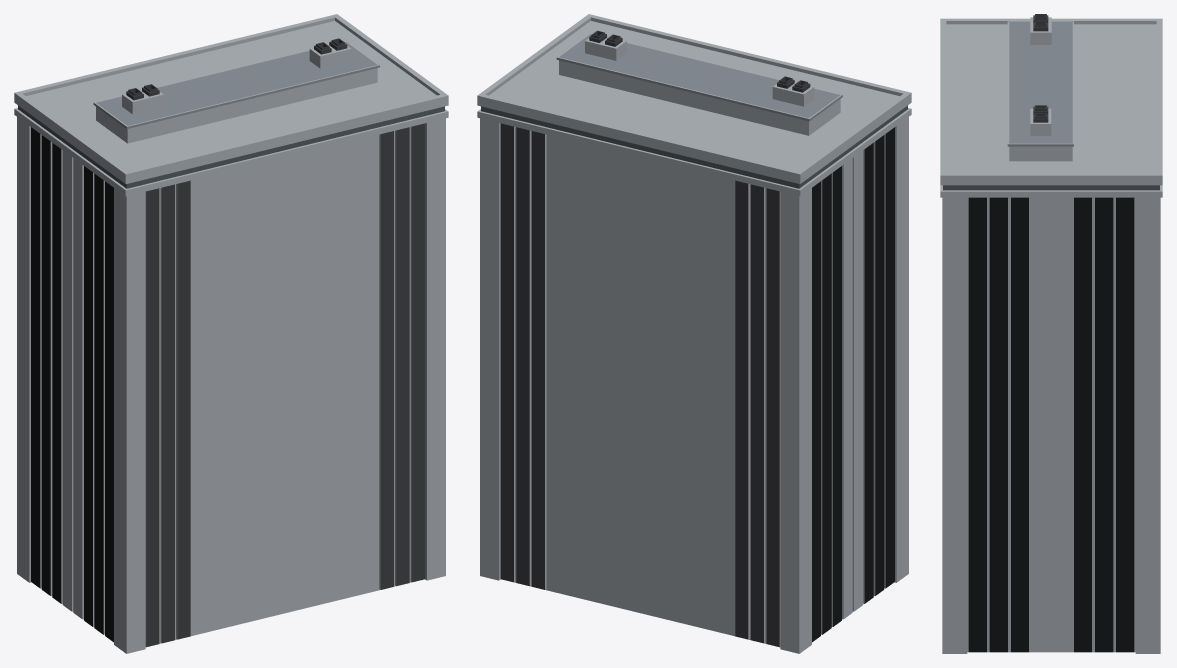
The model's file is talo3.fbx.
3 views of the same model, side by side, from view 1: azimuth 30°, elevation 25°; view 2: azimuth 150°, elevation 25°; view 3: azimuth 270°, elevation 25° (orthographic).
Visible parts, largest first — view 1: talo3; view 2: talo3; view 3: talo3.
Part boxes in pixels (left/top/right/bottom): talo3: left=14, top=14, right=448, bottom=653; talo3: left=477, top=14, right=911, bottom=653; talo3: left=940, top=14, right=1162, bottom=653.
Bounding box in the file's own units: 353 × 536 × 211.
